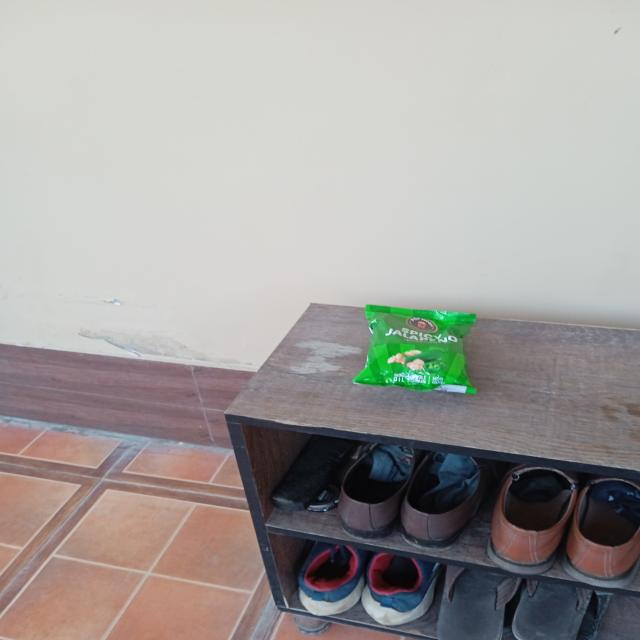Plastic: (351, 300, 485, 396)
